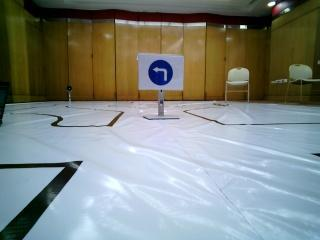left: (143, 60, 177, 94)
